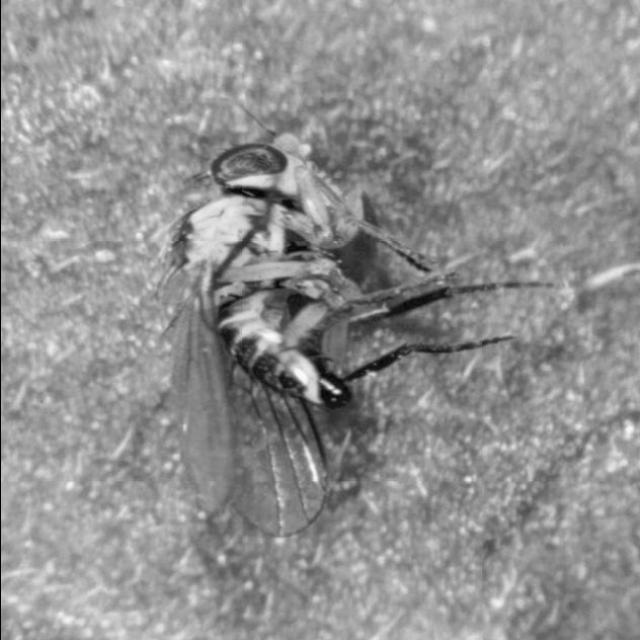Serpentine leafminer: (153, 132, 566, 547)
